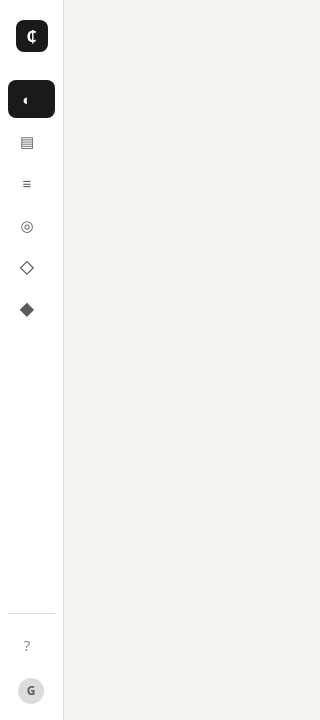
Test: Rail › expande ao passar o mouse, revelando os rótulos, e recolhe ao tirar o mouse
Hover over the navigation bar: (32,360) [0,0,64,719]
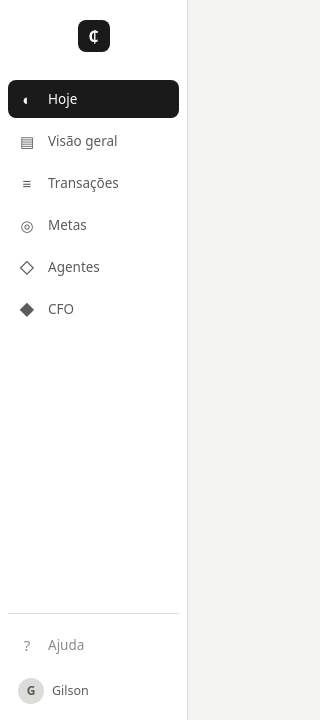
Result: the text "Transações" is shown at [48,174,119,192]
Move the pointer off the navigation bar, box [0,0,188,719]
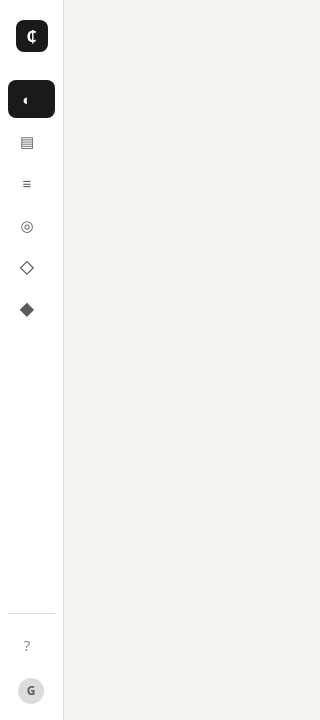
Result: the text "Transações" is gone
